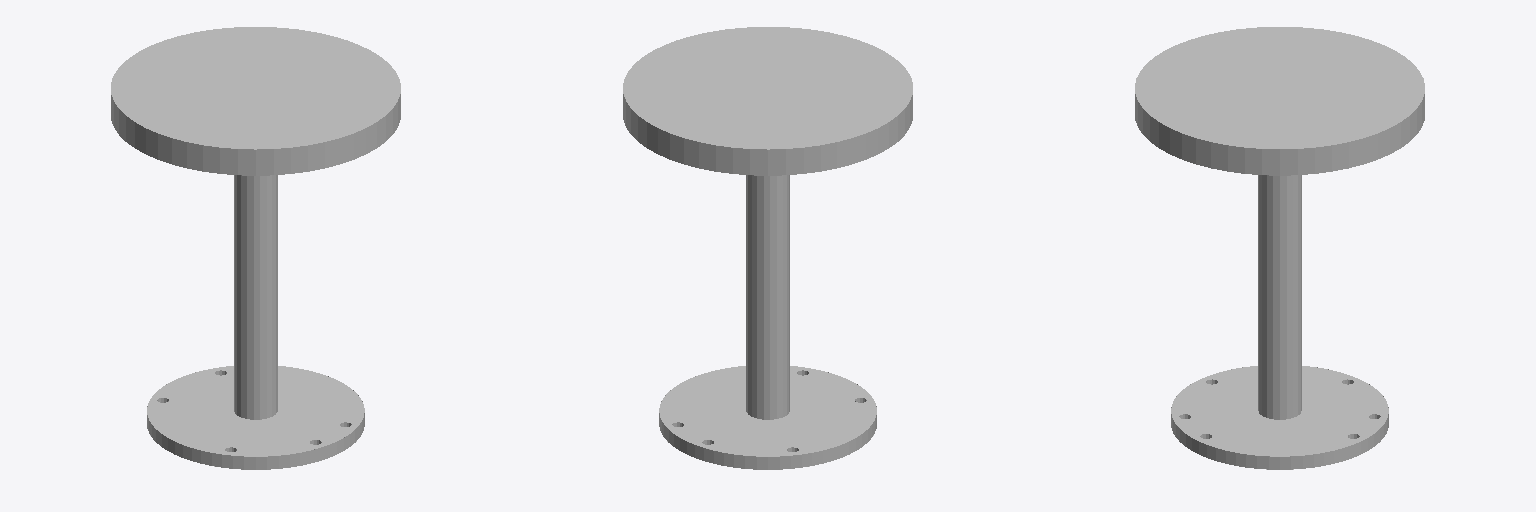
Rendered from Polierer_sketch.obj.
The picture shows the model from 3 angles: view 1: azimuth 30°, elevation 25°; view 2: azimuth 150°, elevation 25°; view 3: azimuth 270°, elevation 25°; orthographic projection.
Visible parts, largest first — view 1: Volumenkörper1; view 2: Volumenkörper1; view 3: Volumenkörper1.
Part boxes in pixels (left/top/right/bottom): Volumenkörper1: left=111, top=27, right=400, bottom=469; Volumenkörper1: left=623, top=27, right=912, bottom=469; Volumenkörper1: left=1135, top=27, right=1424, bottom=469.
Bounding box in the file's own units: 0.1998 × 0.255 × 0.1999.